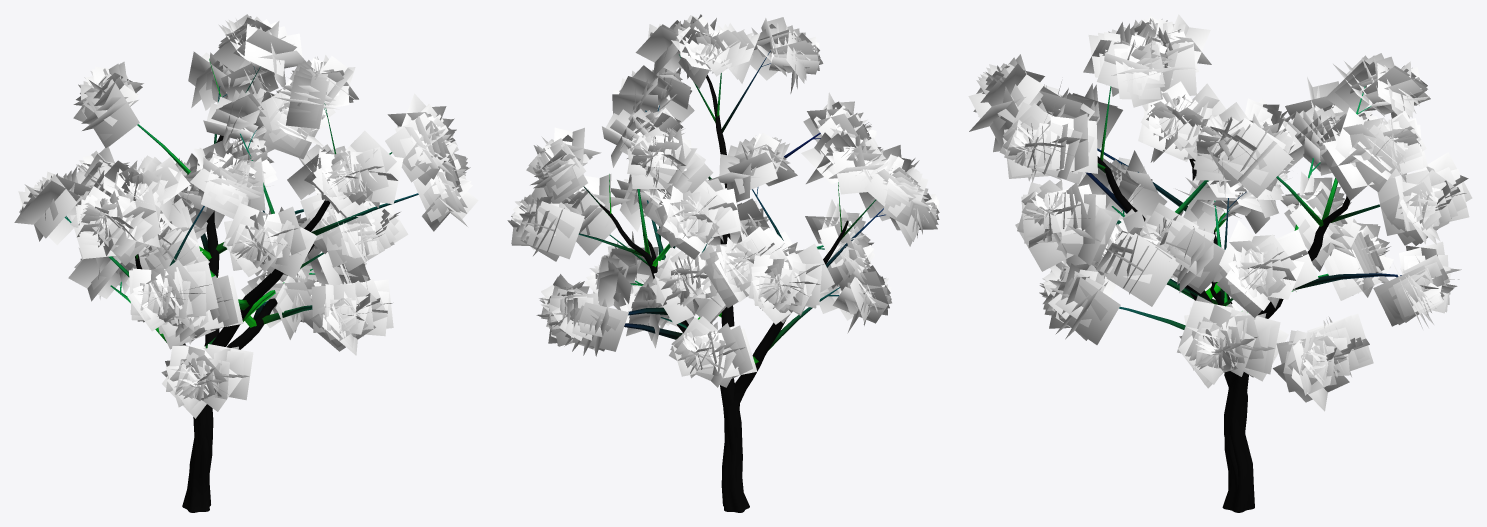
The model's file is trialtrial.fbx.
3 renders of one model, left to right at view 1: azimuth 30°, elevation 25°; view 2: azimuth 150°, elevation 25°; view 3: azimuth 270°, elevation 25°, orthographic. The views are drawn at different scales.
Visible parts, largest first — view 1: Tree_1, Tree_0; view 2: Tree_1, Tree_0; view 3: Tree_1, Tree_0.
Part boxes in pixels (x1,y1,x2,y2): Tree_1: (14,14,478,418); Tree_0: (64,59,418,512); Tree_1: (507,14,939,387); Tree_0: (578,50,885,512); Tree_1: (968,14,1472,411); Tree_0: (1085,86,1401,512).
Bounding box in the file's own units: 418 × 509 × 452.
1 material, 1 textured.
